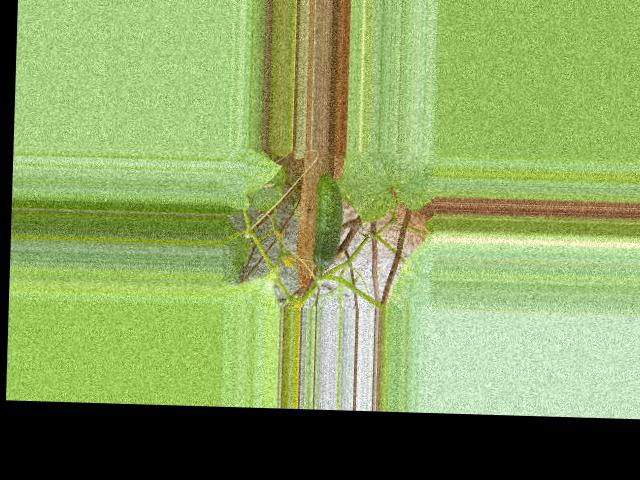cucumber: (311, 172, 343, 268)
